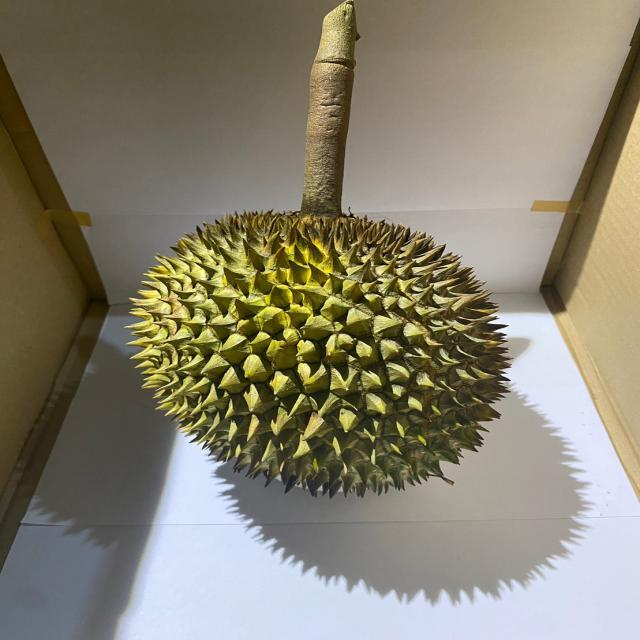immature: (124, 208, 513, 499)
